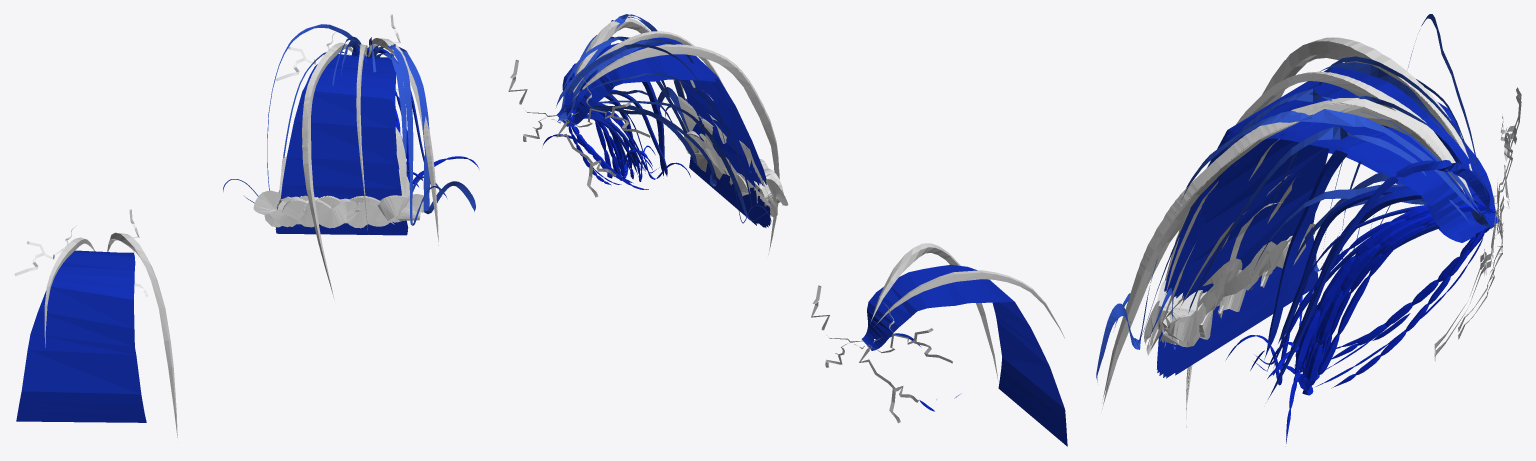
The model's file is Hole.fbx.
3 views of the same model, side by side, from view 1: azimuth 30°, elevation 25°; view 2: azimuth 150°, elevation 25°; view 3: azimuth 270°, elevation 25° (orthographic). The views are drawn at different scales.
Visible parts, largest first — view 1: HoleOpenLoop, HoleOpening; view 2: HoleOpening, HoleOpenLoop; view 3: HoleOpenLoop, HoleOpening.
Part boxes in pixels (box(x1,y1,x2,y2)): HoleOpenLoop: box(223, 24, 475, 298); HoleOpening: box(14, 14, 478, 437); HoleOpening: box(508, 17, 1067, 446); HoleOpenLoop: box(556, 14, 788, 254); HoleOpenLoop: box(1096, 14, 1498, 427); HoleOpening: box(1102, 53, 1521, 443).
Size of the model in its own units: 0.608 by 0.3867 by 0.2445.
